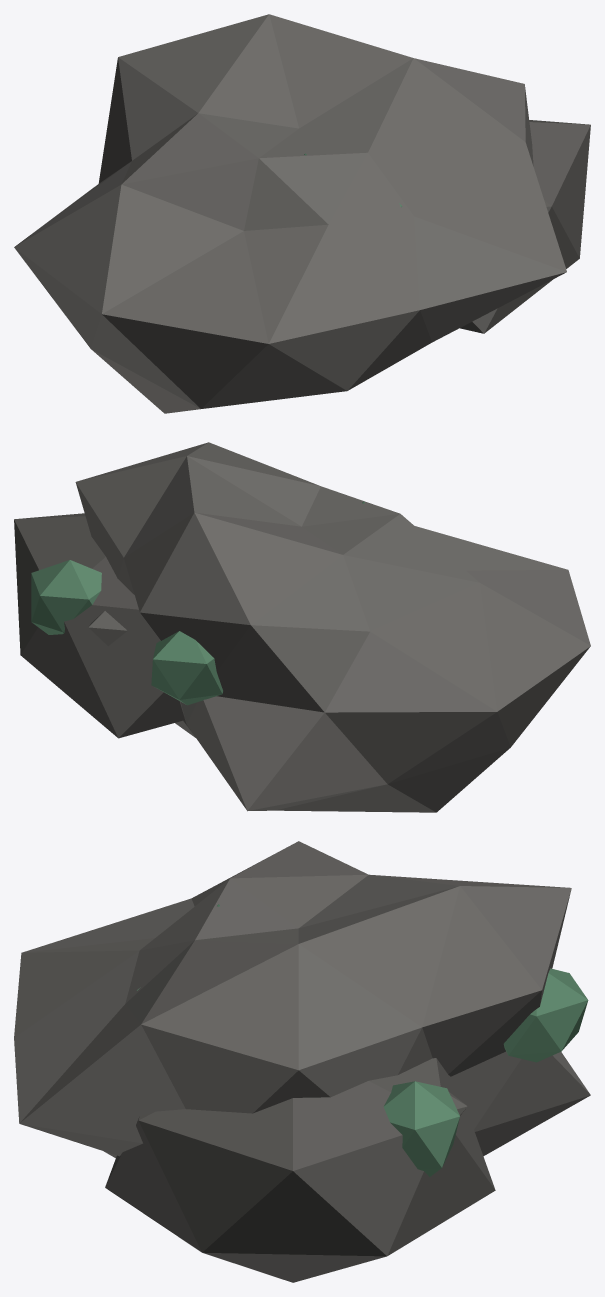
File: adamant_rock.glb
3 views of the same model, one above another, from view 1: azimuth 30°, elevation 25°; view 2: azimuth 150°, elevation 25°; view 3: azimuth 270°, elevation 25° (orthographic). The views are drawn at different scales.
Visible parts, largest first — view 1: adamant_rock; view 2: adamant_rock; view 3: adamant_rock.
Boxes of the visible parts, x1,y1,x2,y2 form: adamant_rock: [14, 14, 590, 413]; adamant_rock: [14, 442, 590, 812]; adamant_rock: [14, 841, 590, 1282].
Size of the model in its own units: 2.19 by 1.21 by 1.74.
1 material, 1 textured.
